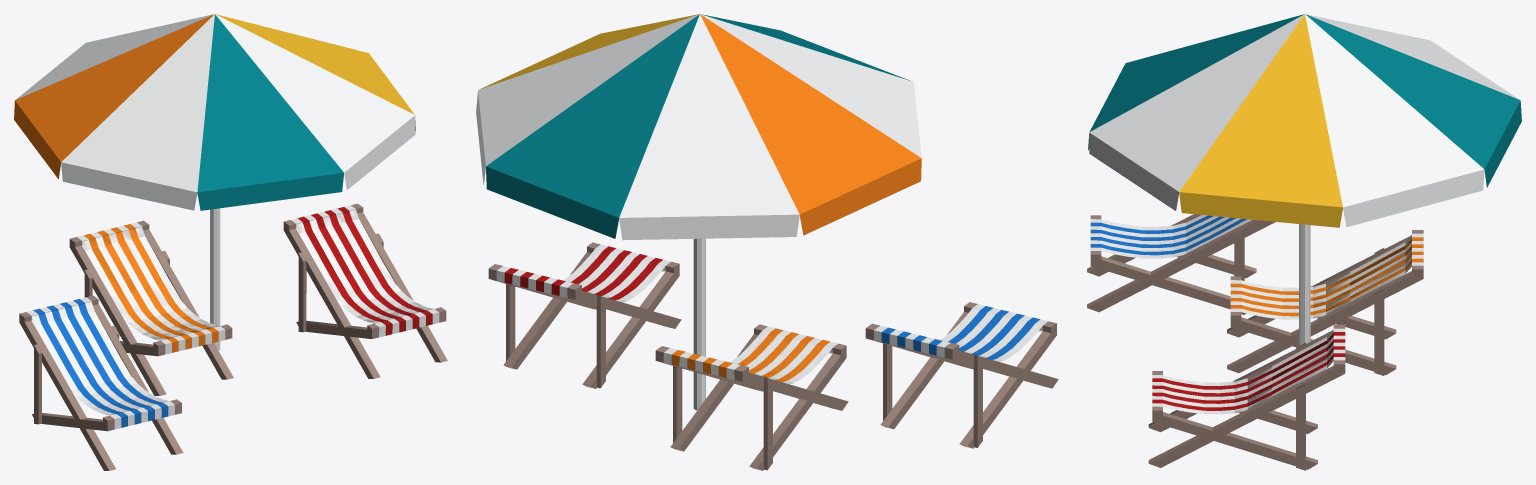
The model's file is M_yizi02.FBX.
3 renders of one model, left to right at view 1: azimuth 30°, elevation 25°; view 2: azimuth 150°, elevation 25°; view 3: azimuth 270°, elevation 25°, orthographic. The views are drawn at different scales.
Visible parts, largest first — view 1: M_yizi02_buliao01, M_yizi02_ganzi01; view 2: M_yizi02_buliao01, M_yizi02_ganzi01; view 3: M_yizi02_buliao01, M_yizi02_ganzi01.
Part boxes in pixels (box(x1,y1,x2,y2)): M_yizi02_buliao01: box(14, 14, 447, 470); M_yizi02_ganzi01: box(210, 208, 220, 350); M_yizi02_buliao01: box(476, 14, 1058, 470); M_yizi02_ganzi01: box(693, 238, 705, 410); M_yizi02_buliao01: box(1087, 14, 1521, 470); M_yizi02_ganzi01: box(1299, 224, 1310, 345).
Size of the model in its own units: 5.49 by 4.68 by 4.98.
